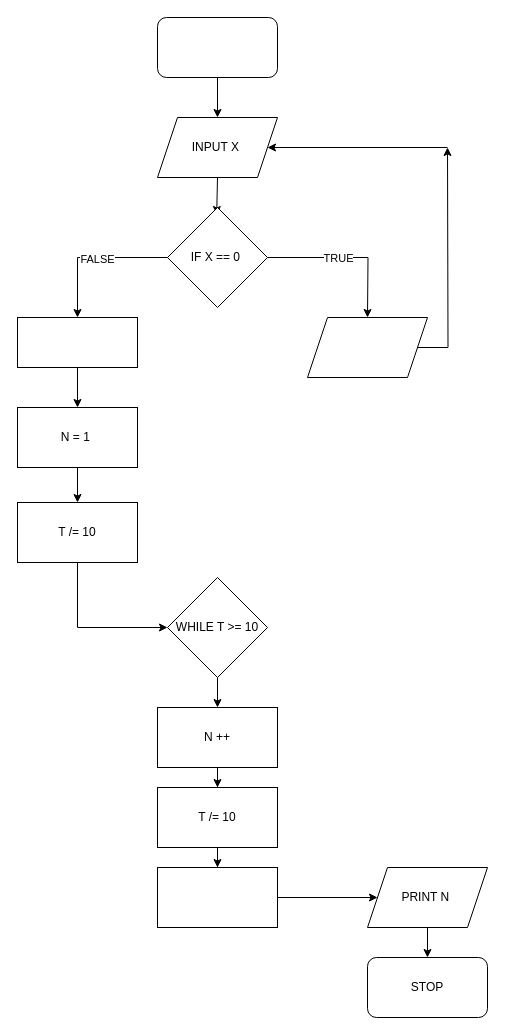
This 505x1035 diagram has some shape labels left out. The shapes that lost their labels are listed below. From the top down, each one's centre as x and y in pixels, then its label:
(217,47): SATRT
(77,342): T = X
(367,347): PRINT "ERROR"
(217,897): END WHILE
